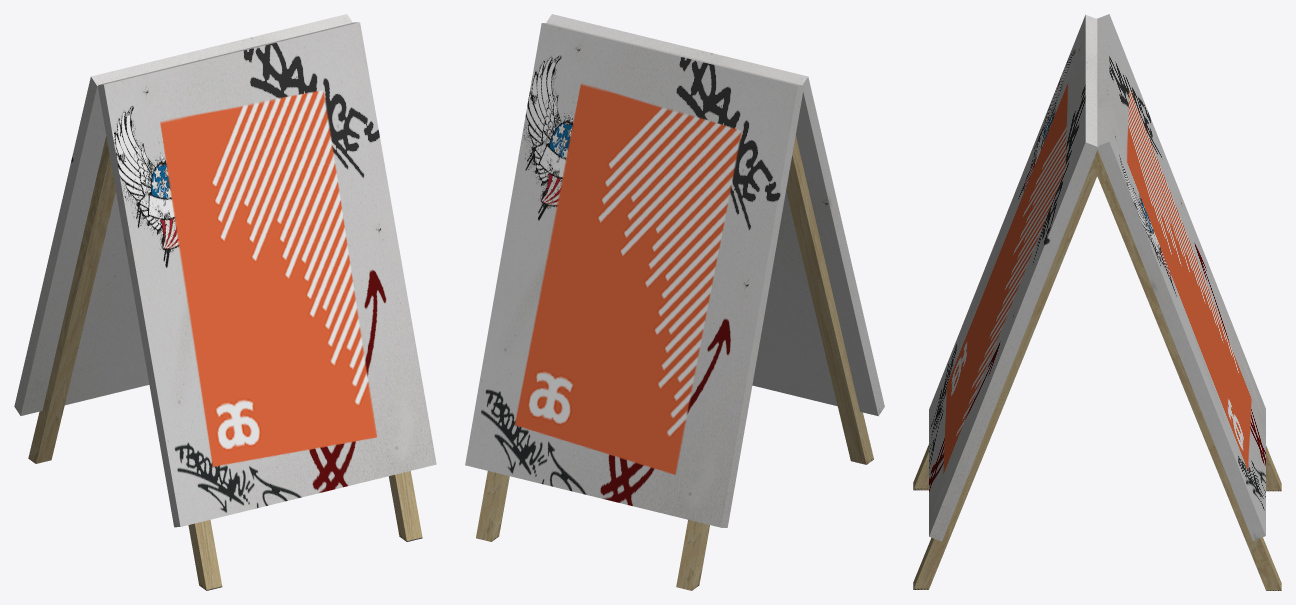
Rendered from cartel.obj.
3 views of the same model, side by side, from view 1: azimuth 30°, elevation 25°; view 2: azimuth 150°, elevation 25°; view 3: azimuth 270°, elevation 25° (orthographic). The views are drawn at different scales.
Parts seen in each view (by area): view 1: Cartelon; view 2: Cartelon; view 3: Cartelon.
Part boxes in pixels (bbox=[...]): Cartelon: bbox=[14, 14, 436, 590]; Cartelon: bbox=[465, 14, 884, 590]; Cartelon: bbox=[913, 14, 1281, 590].
Bounding box in the file's own units: 20.73 × 34.55 × 25.15.
1 material, 1 textured.
